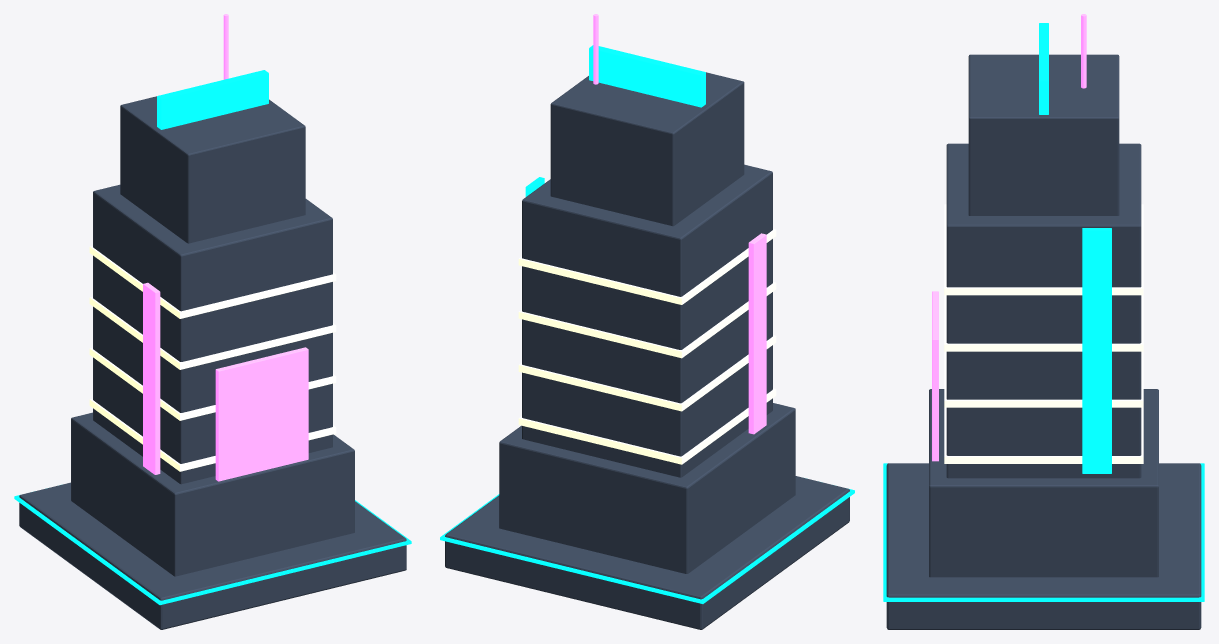
Rendered from building_akari_neon.glb.
The picture shows the model from 3 angles, left to right: view 1: azimuth 30°, elevation 25°; view 2: azimuth 150°, elevation 25°; view 3: azimuth 270°, elevation 25°; orthographic projection. The views are drawn at different scales.
Parts seen in each view (by area): view 1: MidTower, PodiumBase, Penthouse, SeawallQuayFoundation, NeonFrontSign, RoofCrownSign, NeonBillboardMagenta, QuayNeonEdge, WindowBand_3, WindowBand_4, WindowBand_2, WindowBand_1; view 2: MidTower, PodiumBase, Penthouse, SeawallQuayFoundation, RoofCrownSign, NeonBillboardMagenta, QuayNeonEdge, WindowBand_1, WindowBand_2, WindowBand_4, WindowBand_3; view 3: MidTower, PodiumBase, SeawallQuayFoundation, Penthouse, NeonBillboardCyan, QuayNeonEdge, WindowBand_4, WindowBand_2, WindowBand_3, WindowBand_1, NeonFrontSign, RoofCrownSign.
Part boxes in pixels (left/top/right/bottom): MidTower: left=93, top=184, right=332, bottom=484; PodiumBase: left=71, top=412, right=354, bottom=576; Penthouse: left=120, top=96, right=305, bottom=243; SeawallQuayFoundation: left=19, top=482, right=406, bottom=629; NeonFrontSign: left=215, top=347, right=308, bottom=481; RoofCrownSign: left=157, top=70, right=268, bottom=129; NeonBillboardMagenta: left=143, top=282, right=160, bottom=474; QuayNeonEdge: left=14, top=495, right=411, bottom=605; WindowBand_3: left=89, top=297, right=336, bottom=369; WindowBand_4: left=89, top=246, right=336, bottom=318; WindowBand_2: left=89, top=347, right=336, bottom=420; WindowBand_1: left=89, top=398, right=336, bottom=471; MidTower: left=522, top=164, right=772, bottom=477; PodiumBase: left=499, top=403, right=795, bottom=573; Penthouse: left=550, top=72, right=744, bottom=226; SeawallQuayFoundation: left=445, top=476, right=849, bottom=629; RoofCrownSign: left=589, top=45, right=705, bottom=107; NeonBillboardMagenta: left=748, top=233, right=766, bottom=434; QuayNeonEdge: left=440, top=489, right=854, bottom=603; WindowBand_1: left=518, top=388, right=776, bottom=464; WindowBand_2: left=518, top=335, right=776, bottom=411; WindowBand_4: left=518, top=228, right=776, bottom=304; WindowBand_3: left=518, top=282, right=776, bottom=358; MidTower: left=946, top=143, right=1141, bottom=478; PodiumBase: left=929, top=389, right=1158, bottom=577; SeawallQuayFoundation: left=886, top=463, right=1201, bottom=629; Penthouse: left=968, top=54, right=1119, bottom=215; NeonBillboardCyan: left=1082, top=228, right=1111, bottom=473; QuayNeonEdge: left=883, top=463, right=1204, bottom=601; WindowBand_4: left=944, top=204, right=1143, bottom=295; WindowBand_2: left=944, top=351, right=1143, bottom=407; WindowBand_3: left=944, top=295, right=1143, bottom=351; WindowBand_1: left=944, top=407, right=1143, bottom=463; NeonFrontSign: left=932, top=291, right=938, bottom=461; RoofCrownSign: left=1039, top=23, right=1048, bottom=114.
Bounding box in the file's own units: 26.1 × 50.79 × 26.1.
